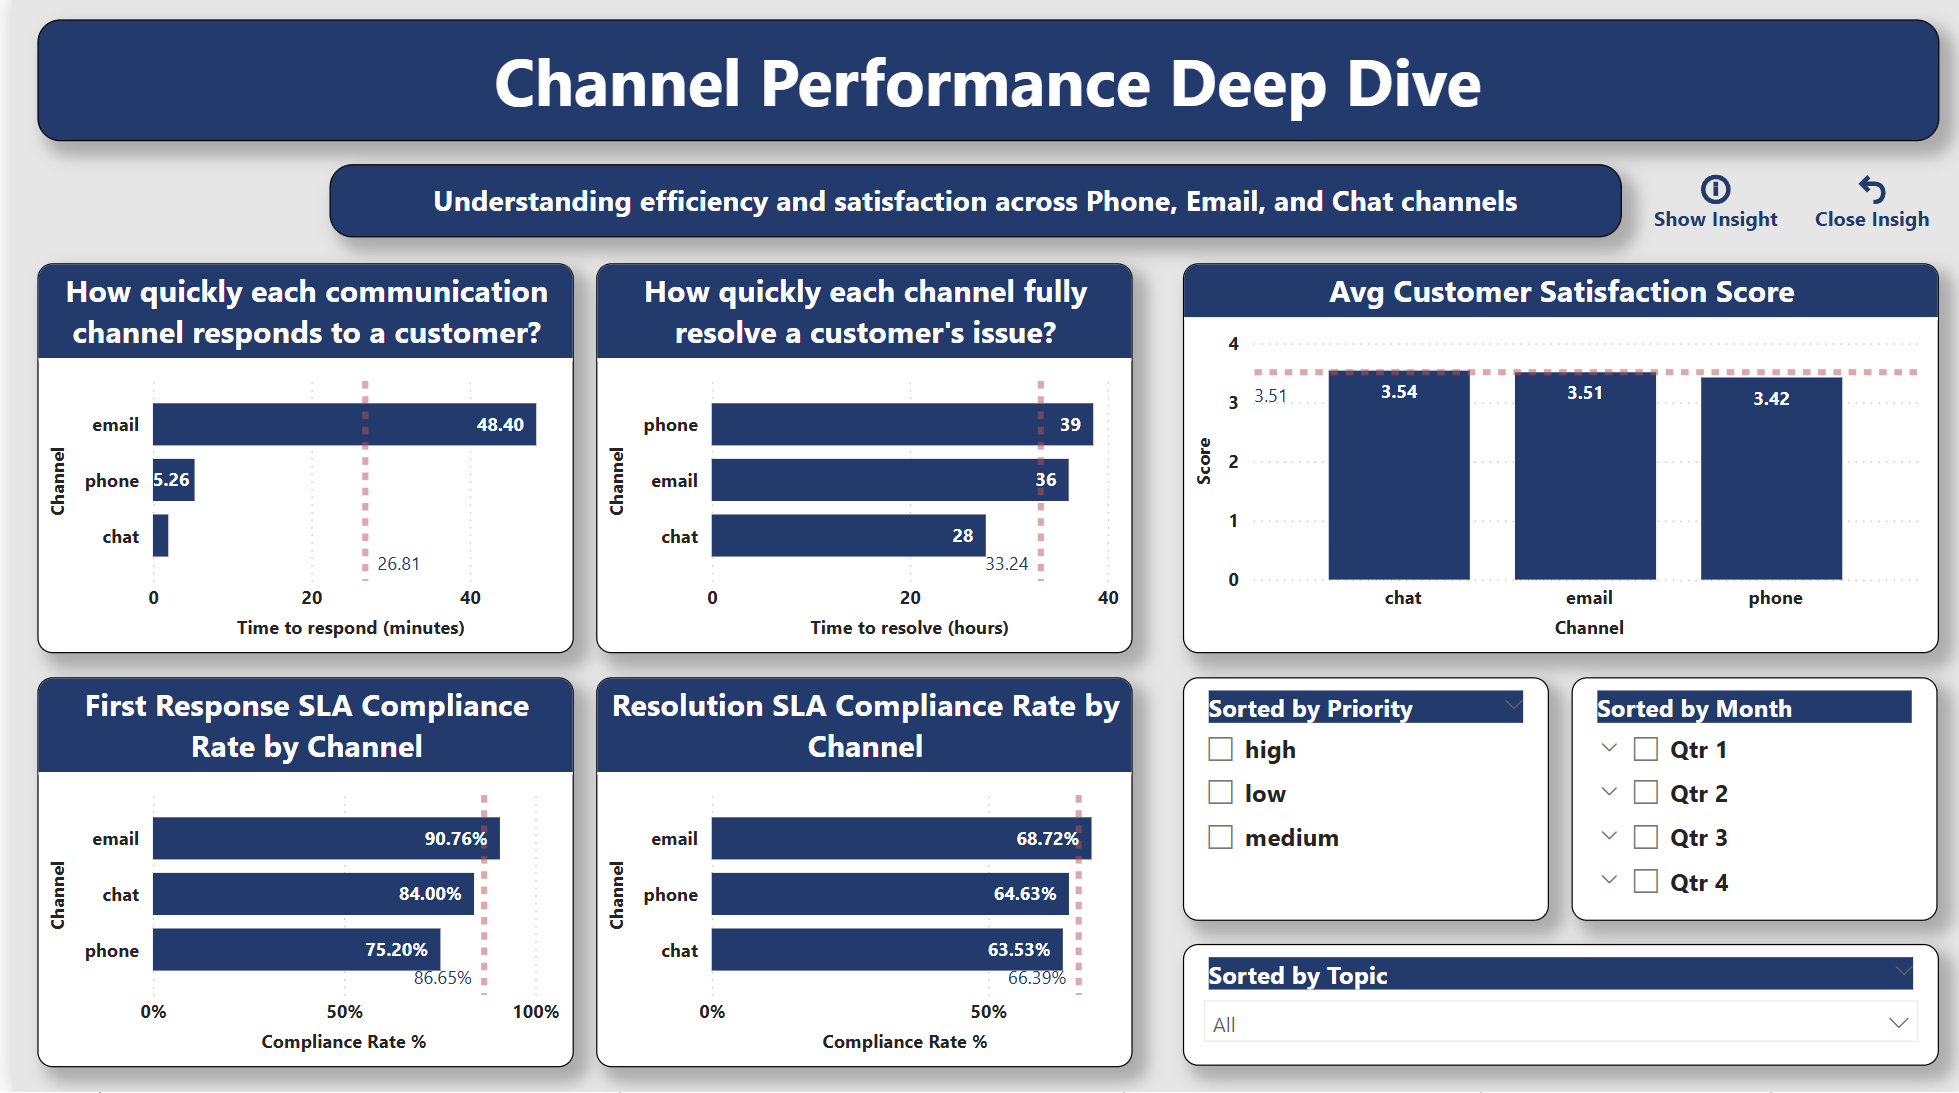

This screenshot's page, from the dashboard's own definition file:
{"tool":"powerbi","page":{"name":"Channel Performance Analysis","canvas":[1280,720],"ordinal":1},"visuals":[{"type":"textbox","box":[16,16,1248,80],"z":0},{"type":"textbox","box":[208,112,848,48],"z":1000},{"type":"clusteredBarChart","title":"How quickly each communication channel responds to a customer?","fields":{"Category":["technical_support_data_engineered.Source"],"Y":["technical_support_data_engineered.Average First Response Time (Minutes)"]},"box":[16,176,352,256],"z":2000},{"type":"clusteredBarChart","title":"How quickly each channel fully resolve a customer''s issue?","fields":{"Category":["technical_support_data_engineered.Source"],"Y":["technical_support_data_engineered.Average Resolution Time (Hours)"]},"box":[384,176,352,256],"z":3000},{"type":"clusteredBarChart","title":"First Response SLA Compliance Rate by Channel","fields":{"Category":["technical_support_data_engineered.Source"],"Y":["technical_support_data_engineered.First Response SLA Compliance (%)"]},"box":[16,448,352,256],"z":4000},{"type":"clusteredBarChart","title":"Resolution SLA Compliance Rate by Channel","fields":{"Category":["technical_support_data_engineered.Source"],"Y":["technical_support_data_engineered.Resolution SLA Compliance (%)"]},"box":[384,448,352,256],"z":5000},{"type":"clusteredColumnChart","title":"Avg Customer Satisfaction Score","fields":{"Category":["technical_support_data_engineered.Source"],"Y":["technical_support_data_engineered.Average CSAT Score"]},"box":[768,176,496,256],"z":6000},{"type":"slicer","fields":{"Values":["technical_support_data_engineered.Priority"]},"box":[768,448,240,160],"z":7000},{"type":"slicer","fields":{"Values":["technical_support_data_engineered.Topic"]},"box":[768,624,496,80],"z":8000},{"type":"slicer","fields":{"Values":["technical_support_data_engineered.Created time.Variation.Date Hierarchy.Quarter","technical_support_data_engineered.Created time.Variation.Date Hierarchy.Month"]},"box":[1024,448,240,160],"z":9000},{"type":"actionButton","title":"Show Insight Button","box":[1069.9,114,96.1,47.2],"z":11000},{"type":"actionButton","box":[1179,114,84.7,47.2],"z":12000}]}

Visuals, with their boxes in screenshot pixels (x1, y1, x2, y2), scaled from the page's 1280x720 canvas onto the 1959x1093 screenshot:
textbox: x1=24 y1=24 x2=1935 y2=146
textbox: x1=318 y1=170 x2=1616 y2=243
"How quickly each communication channel responds to a customer?" clusteredBarChart: x1=24 y1=267 x2=563 y2=656
"How quickly each channel fully resolve a customer''s issue?" clusteredBarChart: x1=588 y1=267 x2=1126 y2=656
"First Response SLA Compliance Rate by Channel" clusteredBarChart: x1=24 y1=680 x2=563 y2=1069
"Resolution SLA Compliance Rate by Channel" clusteredBarChart: x1=588 y1=680 x2=1126 y2=1069
"Avg Customer Satisfaction Score" clusteredColumnChart: x1=1175 y1=267 x2=1935 y2=656
slicer - technical_support_data_engineered.Priority: x1=1175 y1=680 x2=1543 y2=923
slicer - technical_support_data_engineered.Topic: x1=1175 y1=947 x2=1935 y2=1069
slicer - technical_support_data_engineered.Created time.Variation.Date Hierarchy.Quarter x technical_support_data_engineered.Created time.Variation.Date Hierarchy.Month: x1=1567 y1=680 x2=1935 y2=923
"Show Insight Button" actionButton: x1=1637 y1=173 x2=1785 y2=245
actionButton: x1=1804 y1=173 x2=1934 y2=245
